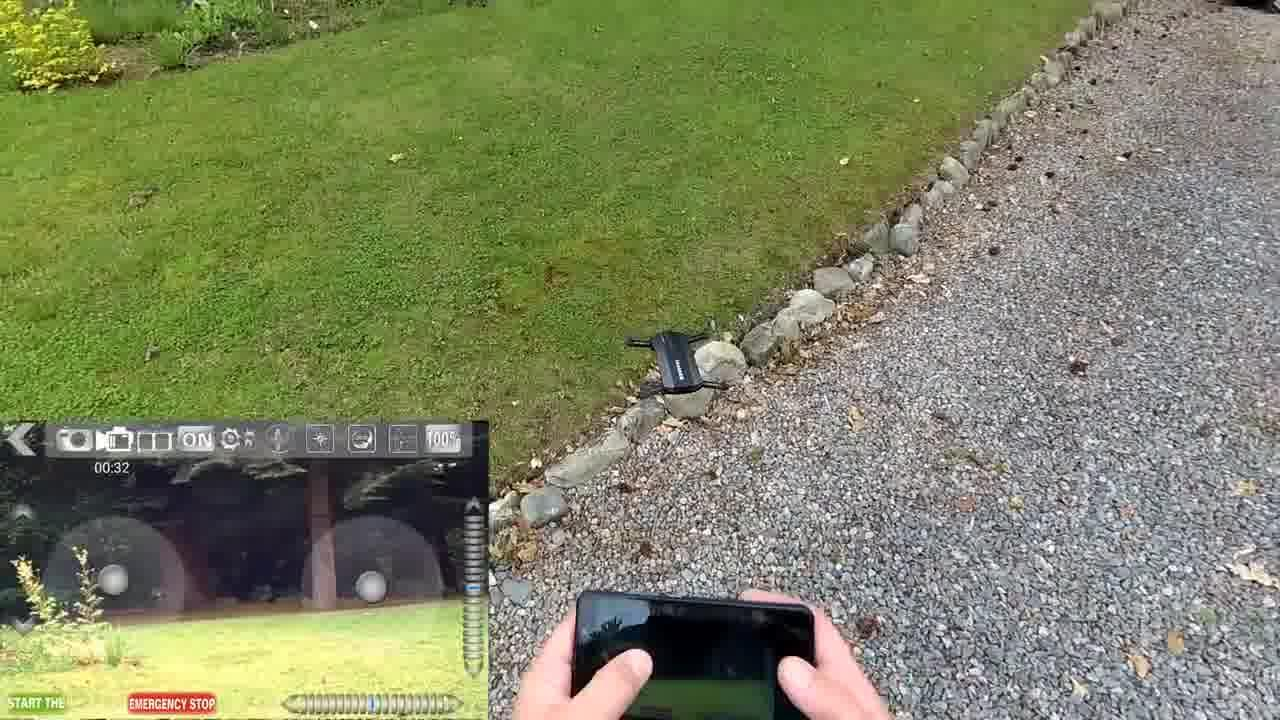drone: (614, 320, 740, 399)
